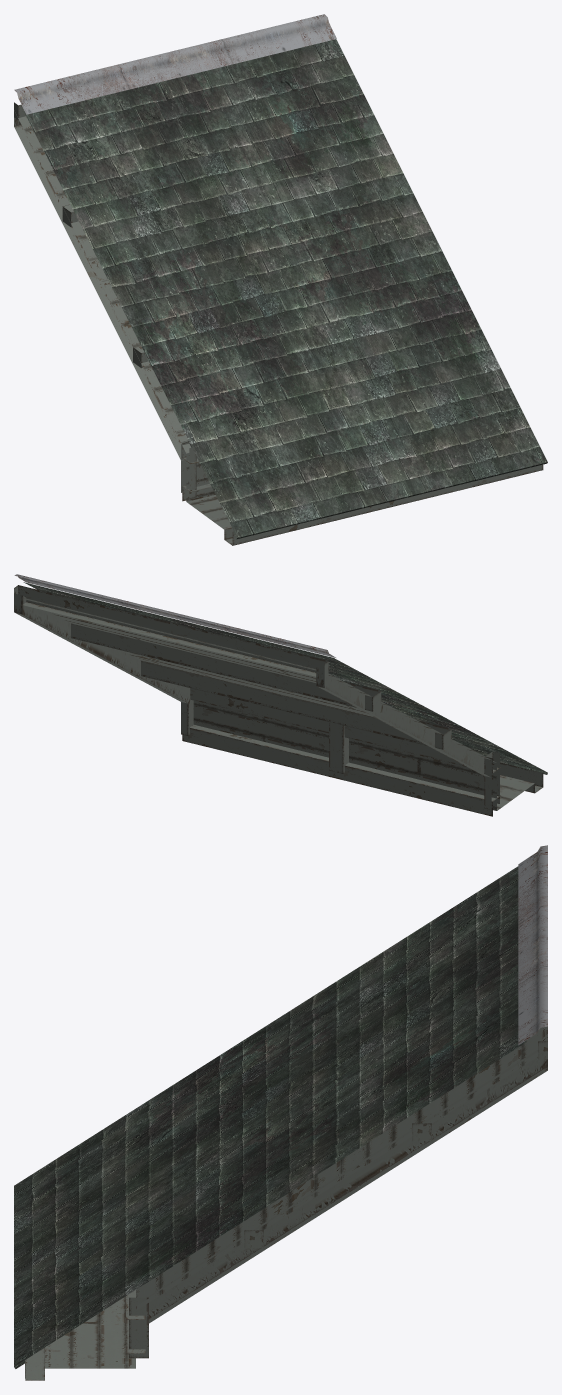
Rendered from SM_Roof400x400.FBX.
3 views of the same model, one above another, from view 1: azimuth 30°, elevation 25°; view 2: azimuth 150°, elevation 25°; view 3: azimuth 270°, elevation 25° (orthographic). The views are drawn at different scales.
Parts seen in each view (by area): view 1: SM_Roof400x400; view 2: SM_Roof400x400; view 3: SM_Roof400x400.
Part boxes in pixels (x1,y1,x2,y2): SM_Roof400x400: [14, 14, 547, 545]; SM_Roof400x400: [14, 574, 547, 816]; SM_Roof400x400: [14, 845, 547, 1380].
Bounding box in the file's own units: 400 × 364 × 498.
